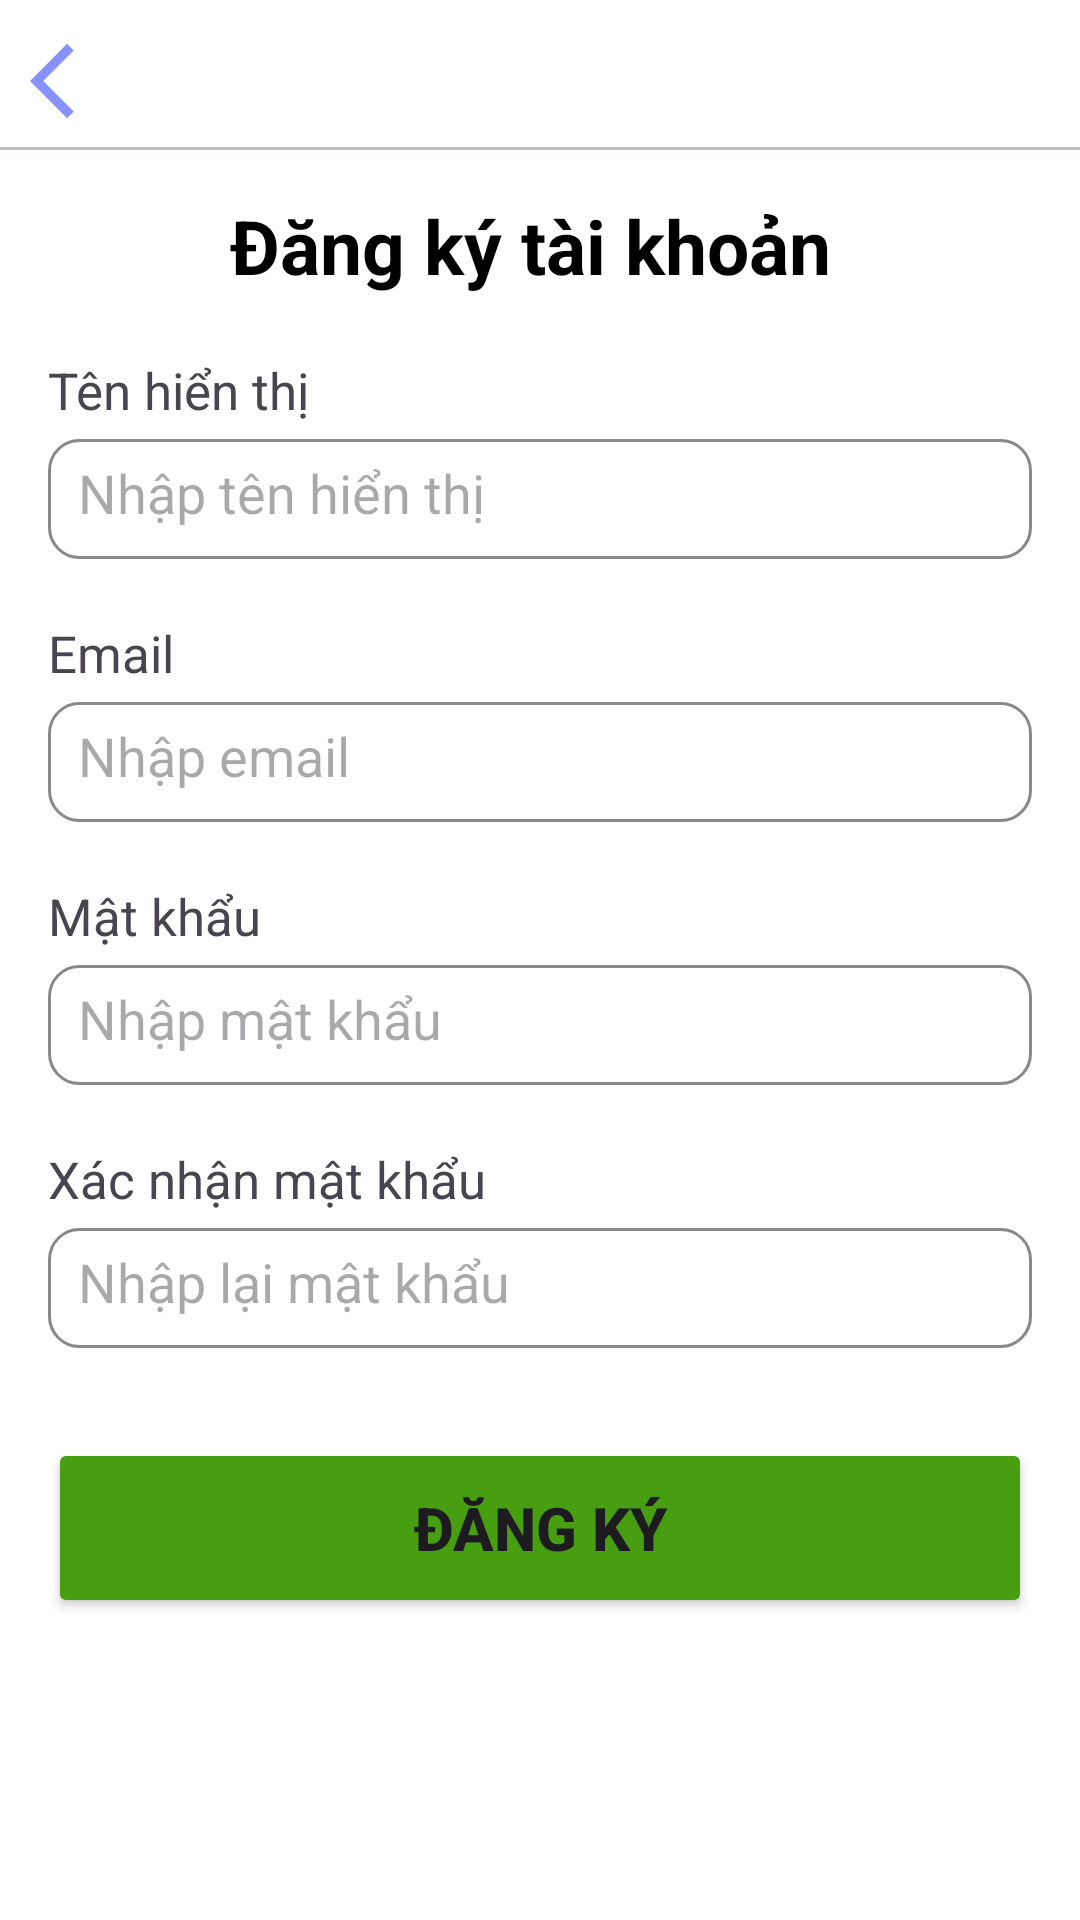

Locate icon controls on the screen. Image size 1080 × 1920, boxes as (x1, y1, x2, y2).
arrow back: (30, 44, 74, 118)
